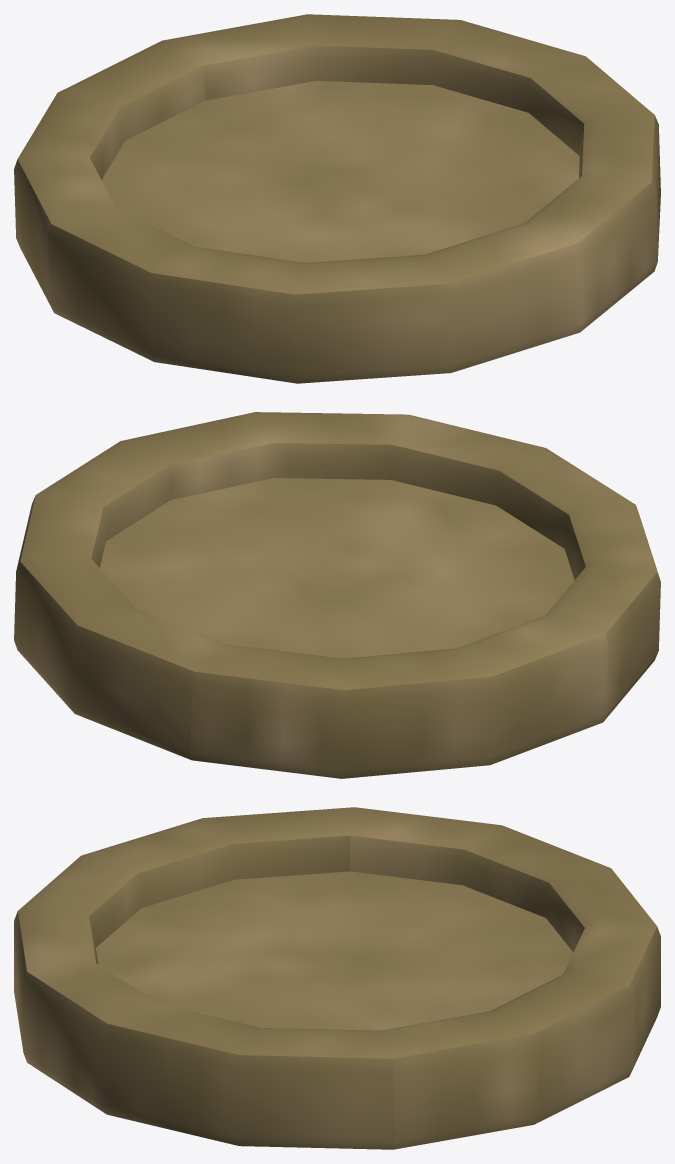
Rendered from Moneta.fbx.
3 renders of one model, top to bottom at view 1: azimuth 30°, elevation 25°; view 2: azimuth 150°, elevation 25°; view 3: azimuth 270°, elevation 25°, orthographic.
Parts seen in each view (by area): view 1: Cylinder782; view 2: Cylinder782; view 3: Cylinder782.
Boxes of the visible parts, x1,y1,x2,y2 form: Cylinder782: (14,14,660,383); Cylinder782: (14,412,660,778); Cylinder782: (14,807,660,1149).
Size of the model in its own units: 0.0395 by 0.00767 by 0.0393.
